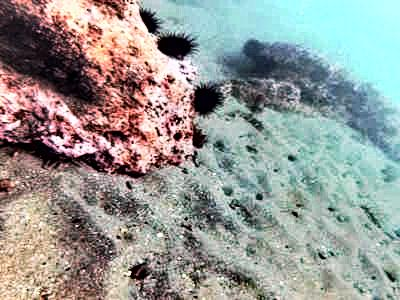urchin: (155, 31, 197, 60), (190, 83, 221, 115), (138, 8, 158, 33)
